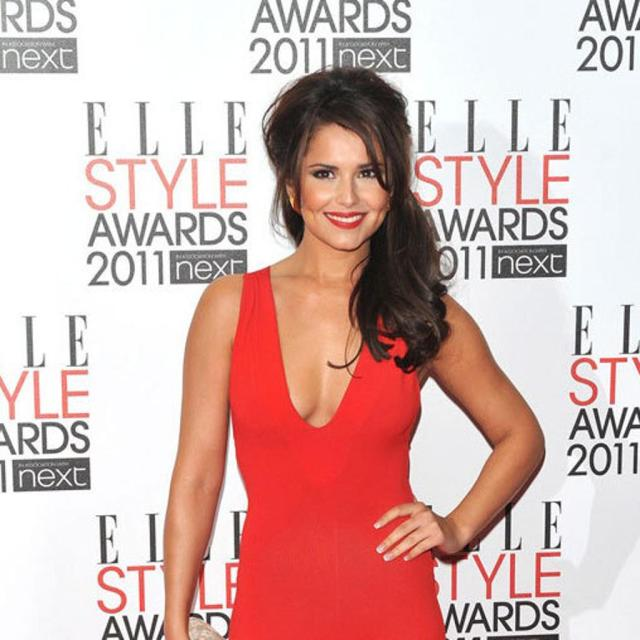Face: (291, 120, 406, 261)
